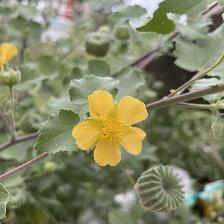indian mallow: (72, 89, 151, 168)
